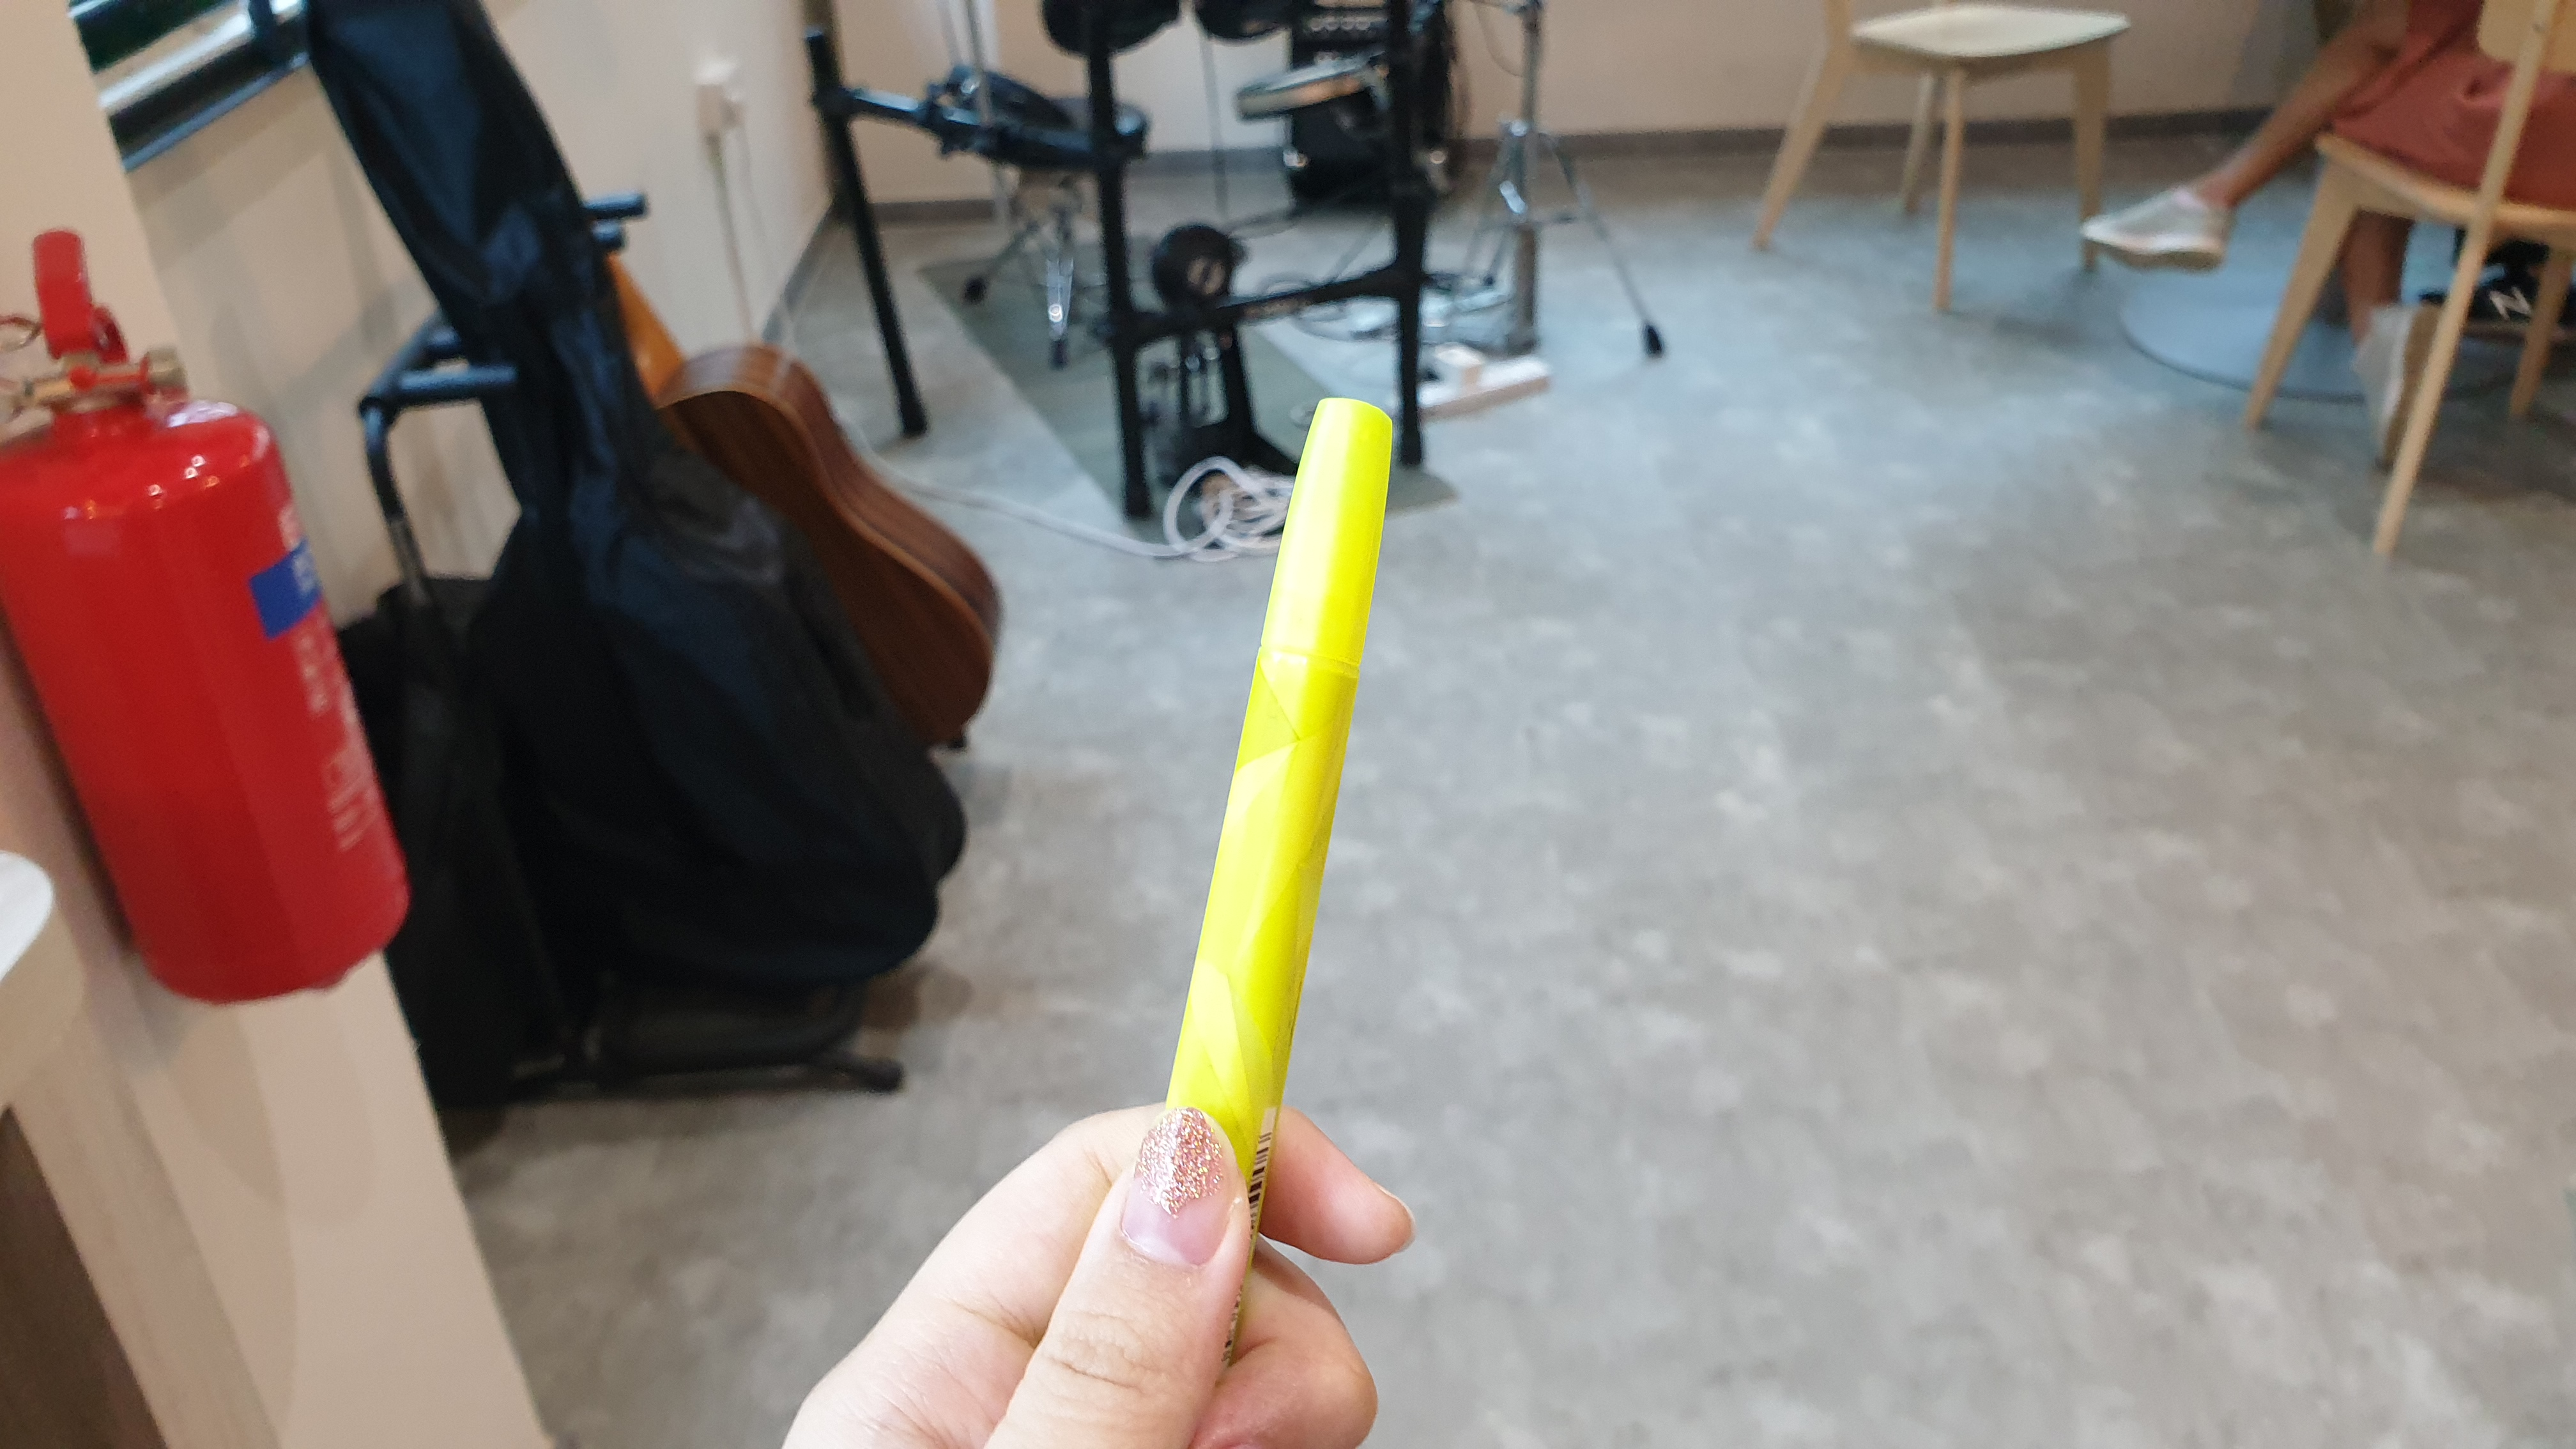yellow_highlighter: (1166, 391, 1391, 1330)
